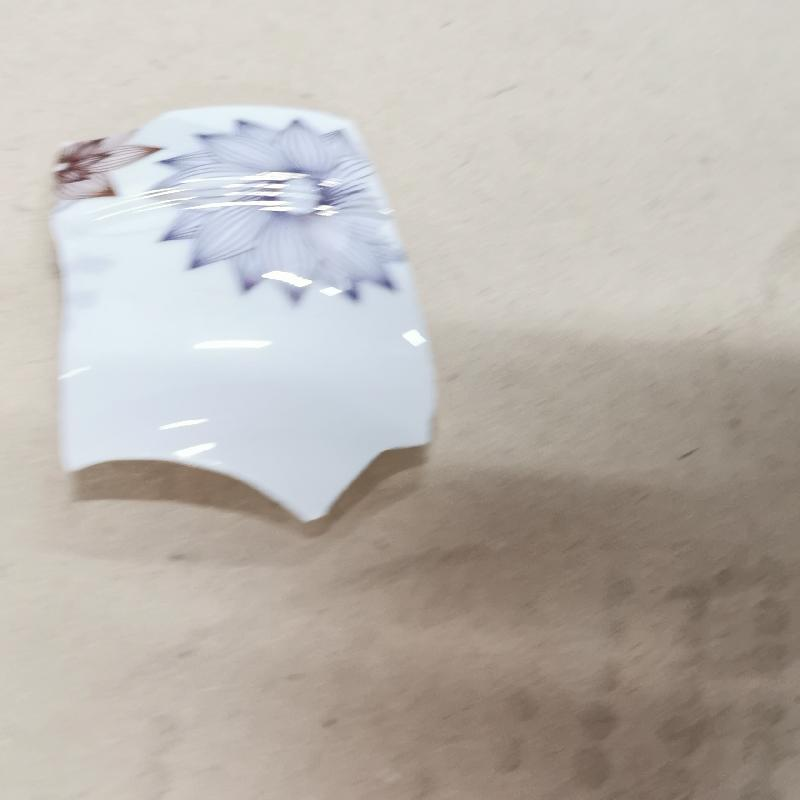ceram: (17, 87, 452, 527)
